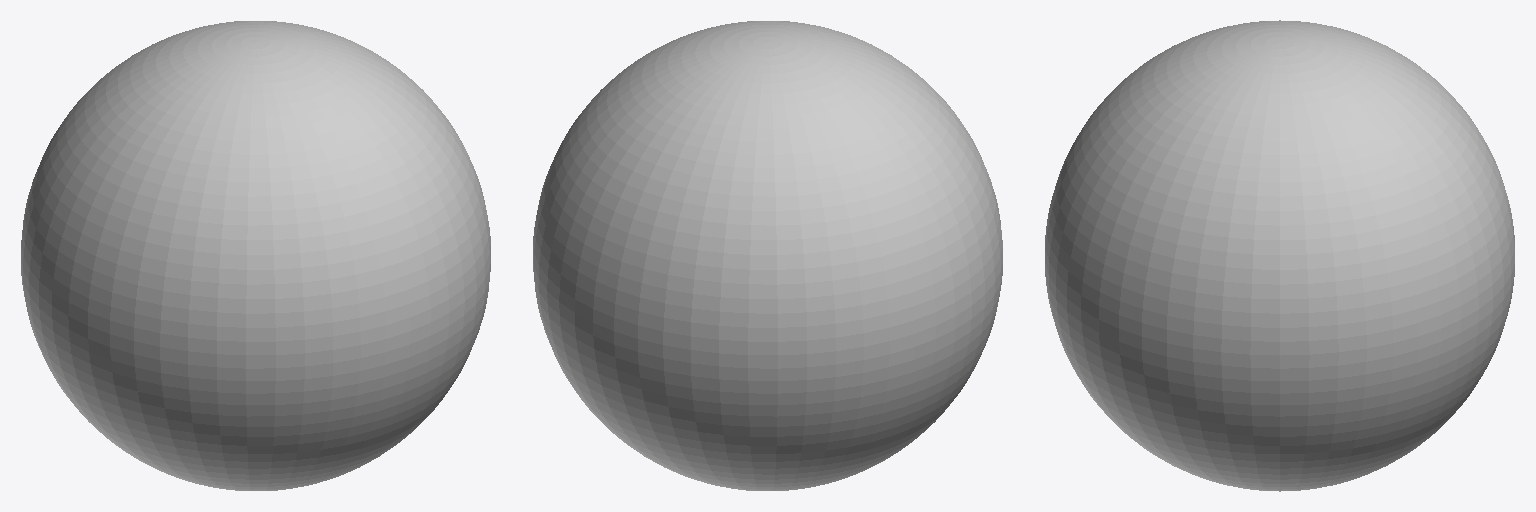
File: Neptune.obj
3 views of the same model, side by side, from view 1: azimuth 30°, elevation 25°; view 2: azimuth 150°, elevation 25°; view 3: azimuth 270°, elevation 25° (orthographic).
Visible parts, largest first — view 1: pSphere10; view 2: pSphere10; view 3: pSphere10.
Boxes of the visible parts, box(x1,y1,x2,y2) form: pSphere10: box(21, 21, 490, 490); pSphere10: box(533, 21, 1002, 490); pSphere10: box(1045, 20, 1514, 491).
Size of the model in its own units: 2.46 by 2.46 by 2.46.